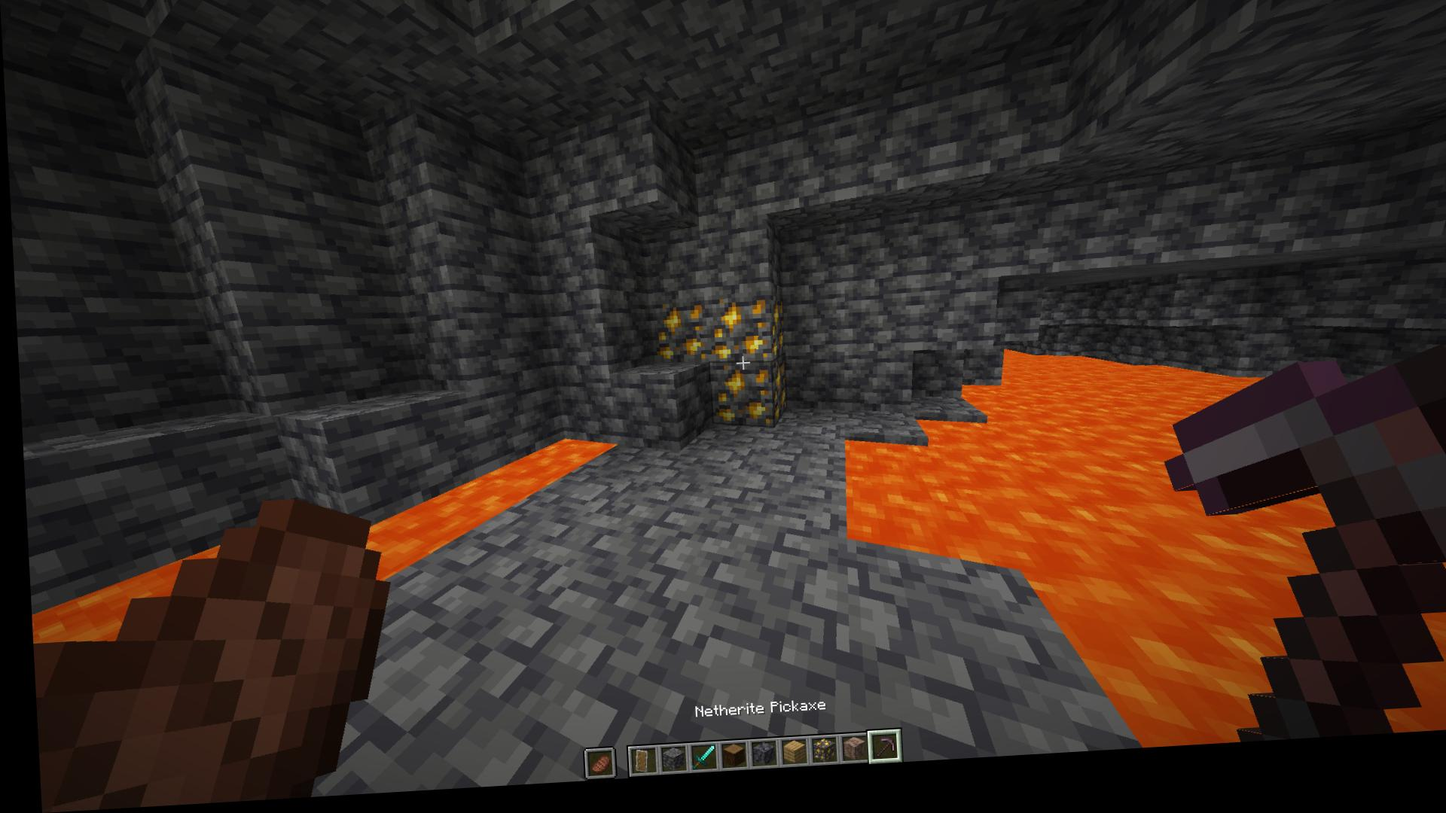gold ore: (703, 302, 768, 371), (707, 366, 768, 438), (646, 305, 704, 371)
